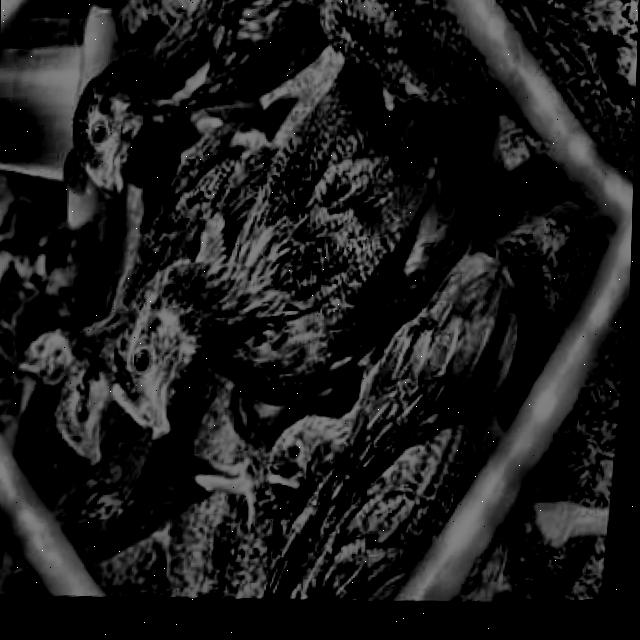Healthy: (133, 331, 161, 385), (85, 118, 116, 156)
